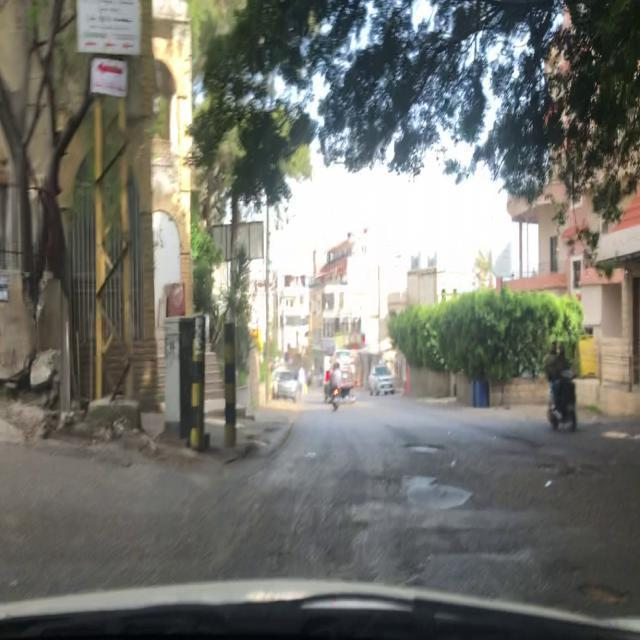pothole: (577, 581, 631, 617), (402, 441, 448, 455)
